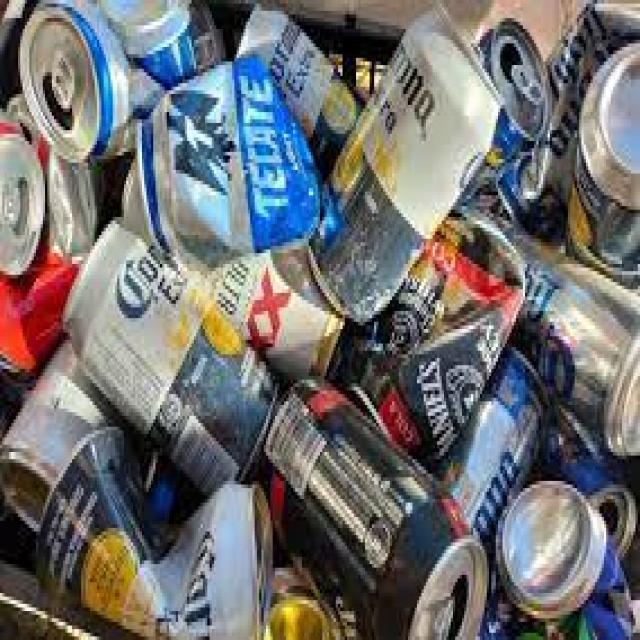Metal: (46, 190, 292, 510), (297, 0, 521, 338), (246, 349, 503, 640), (21, 392, 288, 640), (337, 184, 550, 492), (129, 49, 328, 262), (482, 202, 640, 461), (474, 463, 616, 636), (558, 25, 640, 296), (19, 2, 118, 174), (481, 11, 558, 159), (0, 119, 59, 289)
